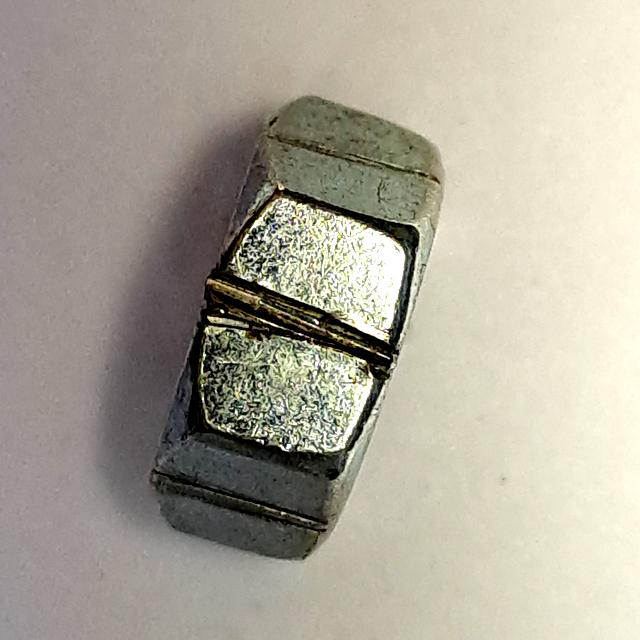Side_Scratches: (120, 89, 462, 576)
